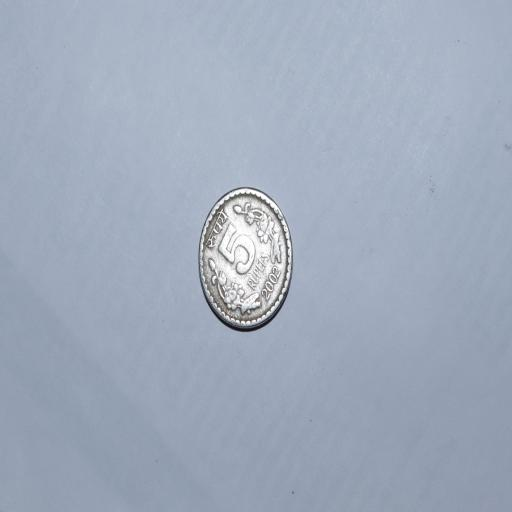rupee5: (198, 186, 293, 332)
